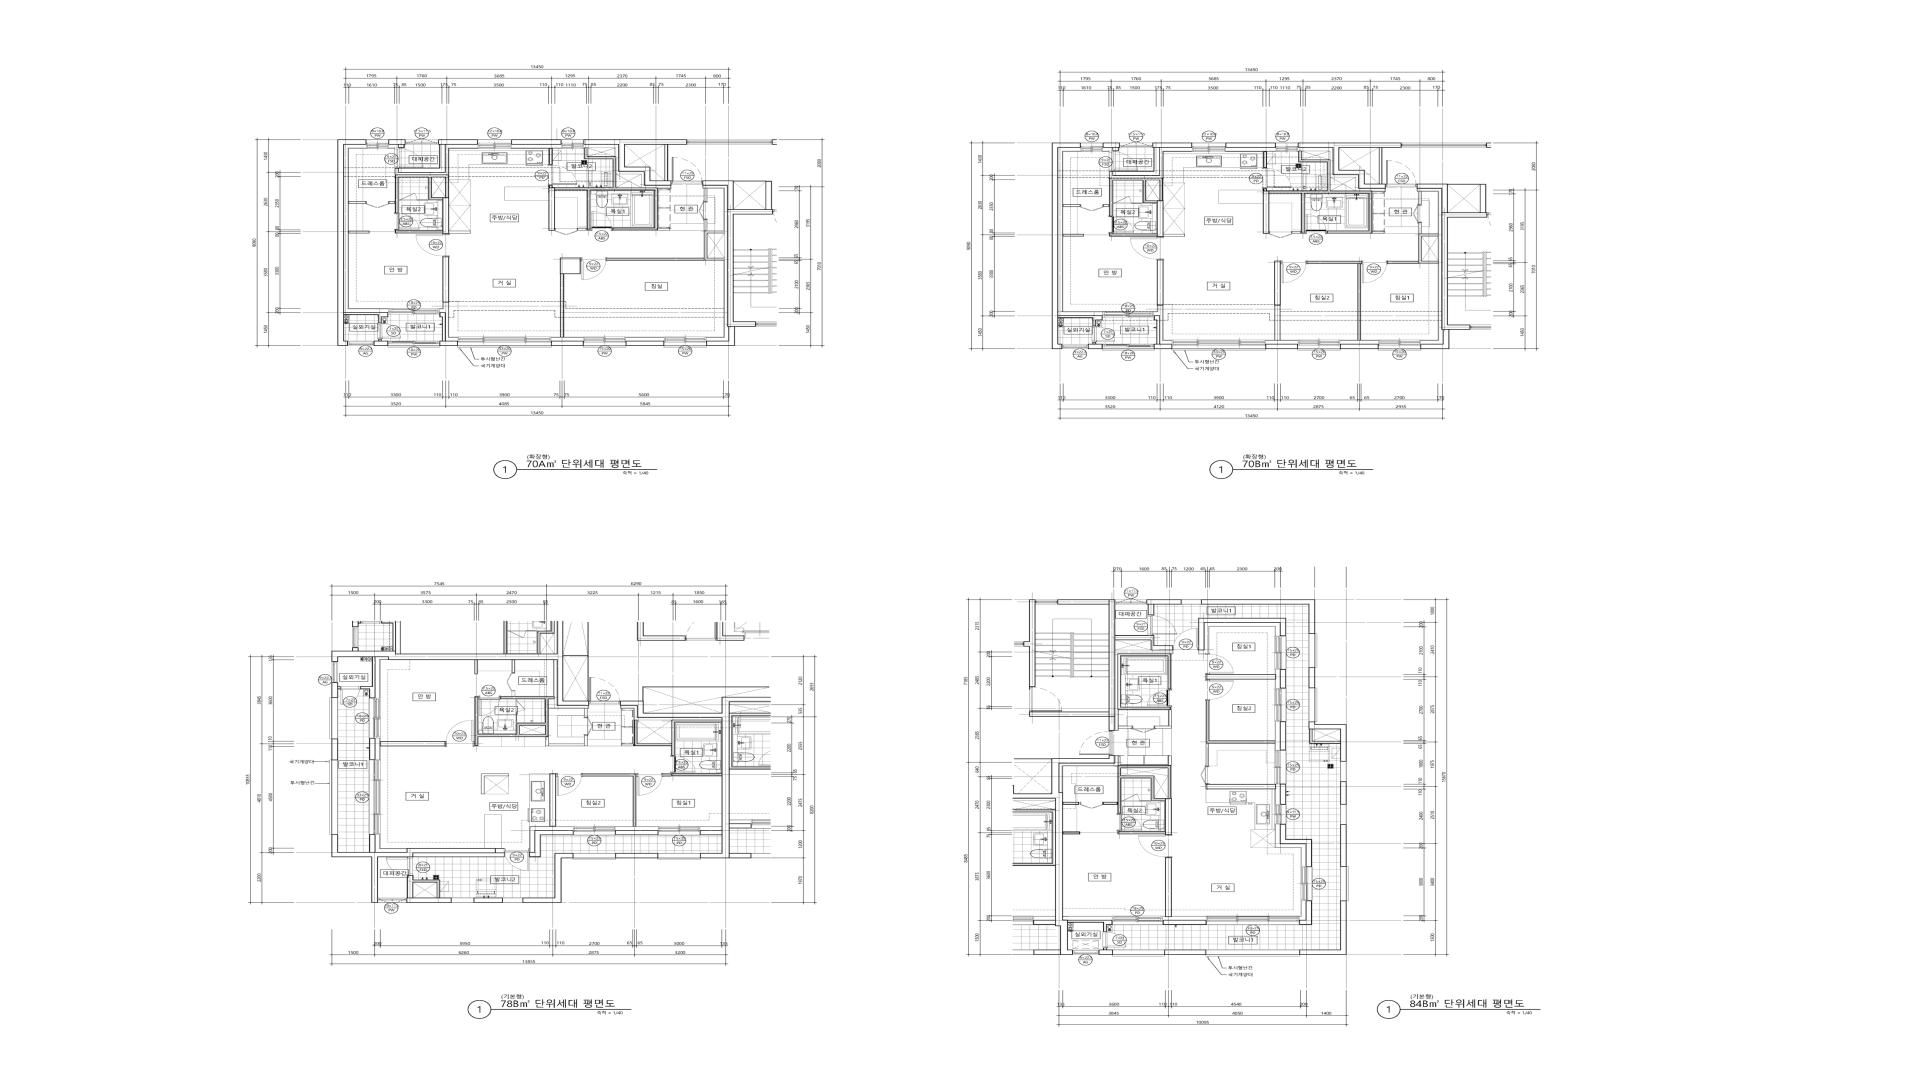door: (671, 157, 703, 183), (1029, 687, 1062, 712), (1386, 161, 1418, 186), (1080, 731, 1112, 756), (415, 233, 448, 257), (1138, 835, 1172, 857), (446, 720, 475, 746), (589, 678, 620, 703), (549, 165, 578, 186), (1280, 261, 1307, 284), (1172, 628, 1199, 650), (1263, 167, 1291, 189), (1205, 679, 1233, 700), (394, 148, 423, 167), (1109, 152, 1138, 171), (1147, 616, 1176, 636), (1362, 261, 1387, 284), (504, 848, 529, 870), (580, 258, 607, 280), (636, 774, 662, 795), (1205, 654, 1233, 674), (556, 774, 582, 795), (386, 857, 413, 876), (591, 211, 613, 231), (477, 696, 500, 716), (1118, 814, 1142, 832), (671, 756, 695, 774), (1304, 215, 1327, 233), (1109, 216, 1133, 233), (1147, 690, 1171, 707), (1102, 932, 1126, 948), (378, 323, 401, 339), (1093, 326, 1116, 342), (1270, 231, 1292, 239), (365, 202, 389, 208), (1080, 204, 1104, 211), (1080, 802, 1102, 808), (555, 228, 578, 235), (1133, 727, 1155, 733), (699, 202, 707, 220), (1414, 204, 1422, 223), (506, 673, 514, 691), (584, 717, 592, 736), (1121, 794, 1139, 802), (1201, 766, 1209, 785), (400, 193, 417, 200), (1113, 196, 1131, 203), (516, 699, 525, 712)
wall: (331, 621, 589, 705), (607, 186, 728, 342), (1029, 600, 1172, 731), (620, 698, 729, 858), (1055, 756, 1116, 955), (331, 835, 504, 903), (1416, 183, 1487, 349), (703, 181, 773, 345), (1052, 142, 1102, 349), (338, 140, 388, 345), (555, 145, 671, 231), (1263, 150, 1373, 233), (1058, 148, 1102, 315), (1298, 142, 1402, 189), (1102, 766, 1172, 835), (584, 140, 687, 186), (1205, 700, 1275, 766), (1116, 650, 1172, 731), (1307, 261, 1362, 340), (475, 696, 554, 746), (1418, 189, 1443, 344), (1201, 600, 1315, 634), (1298, 148, 1386, 191), (1109, 178, 1163, 236), (1117, 654, 1171, 709), (394, 140, 477, 175), (582, 774, 636, 827), (1199, 618, 1286, 650), (1113, 142, 1192, 175), (1199, 622, 1280, 654), (1109, 148, 1192, 178), (522, 853, 572, 903), (1300, 901, 1346, 955), (549, 659, 589, 717), (389, 175, 448, 214), (1059, 756, 1118, 793), (551, 274, 583, 342), (1308, 723, 1346, 762), (620, 705, 721, 720), (1280, 824, 1312, 866), (1275, 824, 1305, 866), (406, 876, 451, 903), (1266, 306, 1298, 344), (529, 831, 574, 857), (529, 827, 574, 852), (512, 145, 562, 165), (439, 302, 458, 342), (1154, 306, 1172, 344), (1154, 315, 1172, 349), (439, 313, 458, 345), (1029, 600, 1035, 687), (1146, 600, 1182, 616), (481, 774, 509, 794), (376, 835, 406, 852), (376, 657, 388, 699), (707, 233, 725, 258), (546, 736, 587, 746), (1422, 236, 1439, 261), (1166, 857, 1172, 916), (1205, 674, 1276, 679), (1205, 785, 1276, 790), (413, 882, 436, 898), (413, 853, 504, 857), (550, 774, 556, 827), (380, 741, 446, 746), (560, 257, 580, 274), (1299, 901, 1312, 926), (1155, 709, 1171, 729), (1156, 260, 1163, 306), (549, 186, 555, 231), (1274, 261, 1280, 306), (1146, 181, 1159, 203), (1340, 824, 1346, 866), (1225, 142, 1276, 148), (587, 148, 616, 157), (512, 140, 562, 145), (443, 257, 448, 302), (1163, 920, 1207, 926), (616, 853, 658, 858), (1164, 949, 1205, 955), (1225, 148, 1276, 152), (1340, 344, 1378, 349), (1063, 916, 1113, 920), (394, 229, 443, 233), (443, 198, 448, 233), (1163, 916, 1207, 920), (615, 827, 658, 831), (615, 831, 658, 835), (1266, 344, 1298, 349), (1102, 142, 1120, 152), (1280, 721, 1286, 750), (1275, 721, 1280, 750), (473, 898, 502, 903), (1340, 340, 1378, 344), (1340, 782, 1346, 804), (626, 342, 663, 345), (626, 338, 663, 342), (1308, 667, 1315, 688), (369, 738, 376, 760), (331, 738, 338, 760), (331, 683, 340, 698), (1299, 901, 1305, 920), (389, 140, 405, 148), (551, 342, 583, 345), (1088, 342, 1102, 349), (1280, 785, 1286, 804), (1275, 785, 1280, 804), (1280, 670, 1286, 688), (1275, 670, 1280, 688), (1098, 948, 1113, 955), (373, 339, 388, 345), (665, 145, 667, 181), (1379, 148, 1382, 183), (376, 738, 380, 760), (700, 827, 721, 831), (1387, 261, 1419, 264), (1263, 152, 1267, 167), (448, 231, 471, 233), (348, 231, 369, 233), (348, 202, 365, 204), (733, 181, 766, 182), (1102, 148, 1113, 152), (1448, 183, 1480, 185), (475, 659, 477, 674), (389, 145, 398, 149), (512, 659, 514, 673), (621, 744, 634, 746), (1373, 231, 1385, 233), (1163, 235, 1185, 236), (1168, 756, 1171, 766), (1292, 231, 1302, 233), (1139, 800, 1150, 802), (417, 199, 427, 200), (1104, 204, 1109, 207), (512, 691, 514, 696), (516, 712, 517, 723), (1131, 203, 1142, 203)
window: (1172, 340, 1266, 351), (458, 338, 551, 348), (1207, 916, 1299, 926), (369, 760, 380, 835), (1205, 949, 1300, 956), (330, 760, 338, 835), (1113, 916, 1163, 926), (1378, 340, 1422, 351), (663, 338, 707, 348), (583, 338, 626, 348), (1298, 340, 1340, 351), (369, 698, 380, 738), (1302, 866, 1312, 901), (1275, 750, 1286, 785), (1275, 636, 1286, 670), (1275, 688, 1286, 721), (388, 342, 440, 348), (1113, 949, 1164, 956), (1102, 311, 1154, 318), (1102, 344, 1154, 351), (658, 827, 700, 835), (574, 827, 615, 835), (330, 698, 338, 738), (1308, 688, 1317, 723), (1340, 866, 1349, 901), (477, 140, 512, 149), (1308, 634, 1317, 667), (1192, 142, 1225, 152), (572, 853, 616, 860), (658, 853, 700, 860), (388, 309, 439, 314), (1120, 141, 1153, 148), (405, 138, 438, 145), (1275, 804, 1286, 824), (367, 140, 389, 149), (1080, 142, 1102, 152), (562, 140, 584, 149), (1276, 142, 1298, 152), (378, 898, 407, 905), (1116, 599, 1146, 604), (331, 662, 338, 683), (1062, 344, 1088, 349), (1340, 762, 1346, 782), (1340, 804, 1346, 824), (451, 898, 473, 903), (502, 898, 522, 903), (1073, 951, 1098, 955), (348, 342, 373, 345), (1035, 600, 1058, 604), (1182, 600, 1201, 604)
